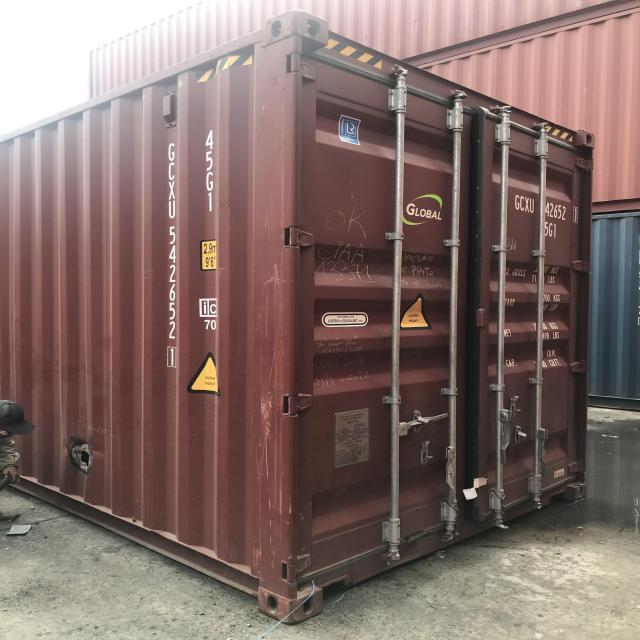hole: (64, 438, 99, 479)
